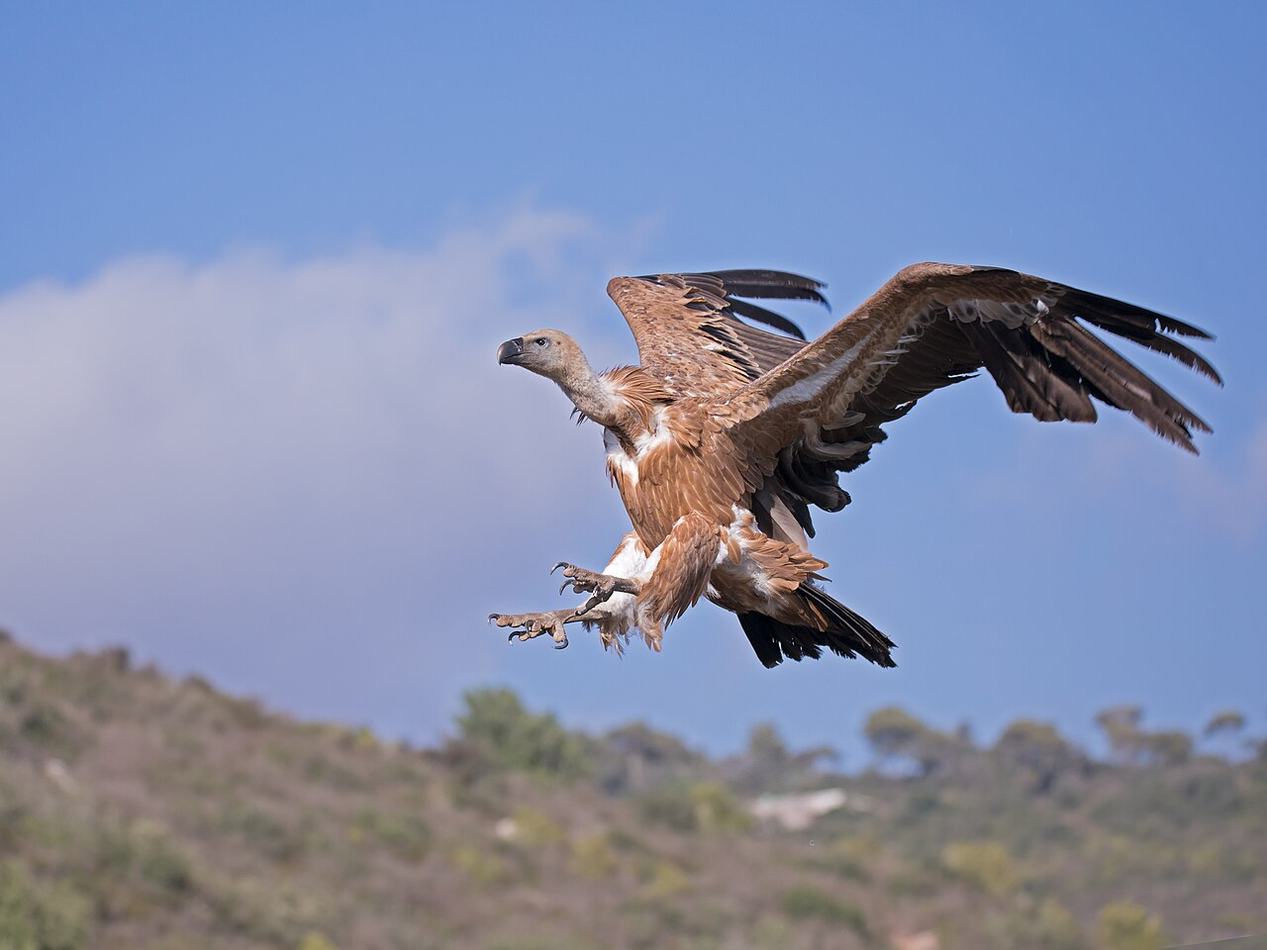bird: (488, 259, 1226, 673)
